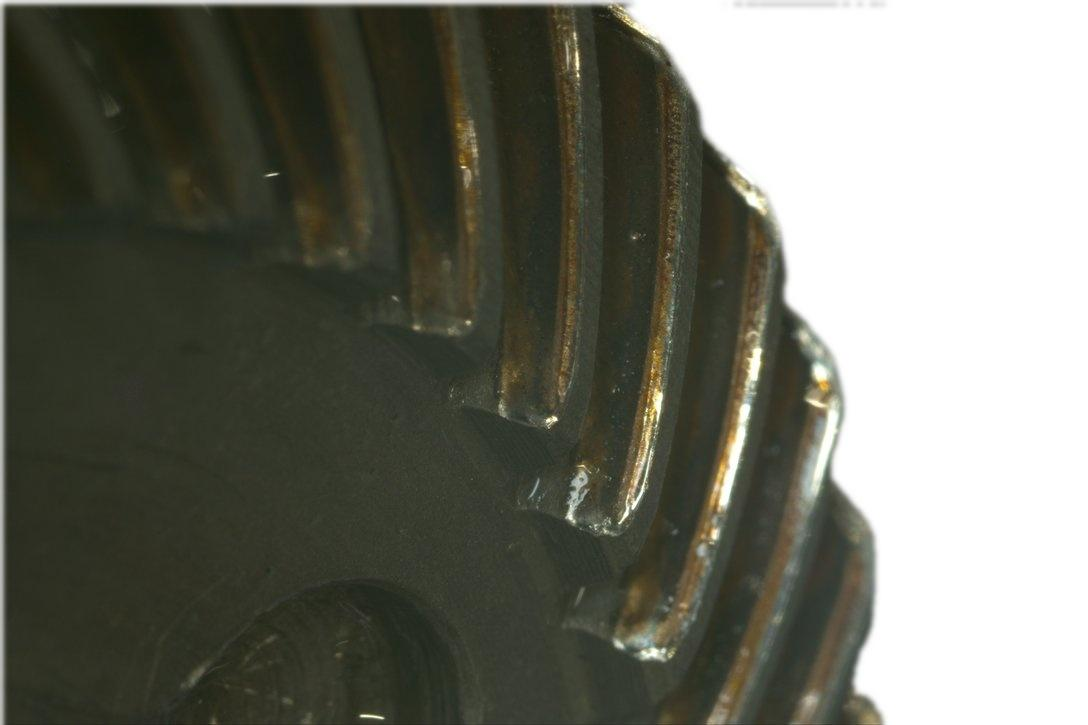defect: (615, 168, 784, 670), (566, 17, 693, 544), (672, 368, 835, 724), (483, 0, 604, 438), (376, 0, 491, 337), (235, 0, 374, 270), (102, 0, 241, 226), (767, 501, 876, 724), (843, 703, 876, 724)
